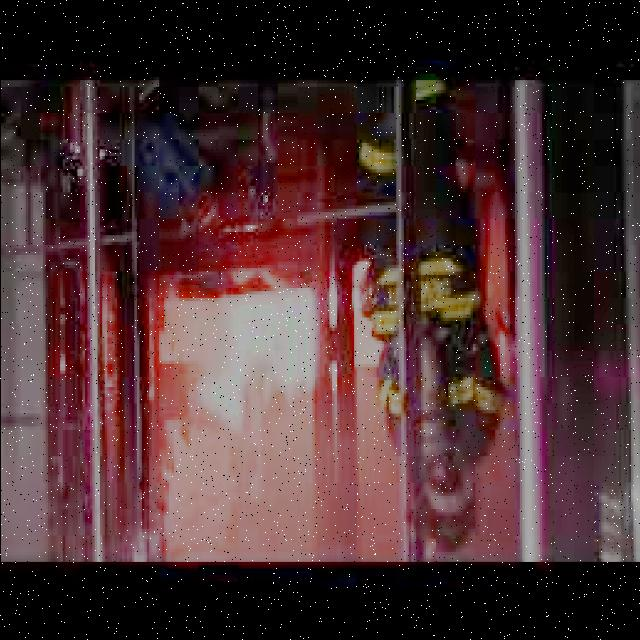api: (177, 275, 357, 457)
